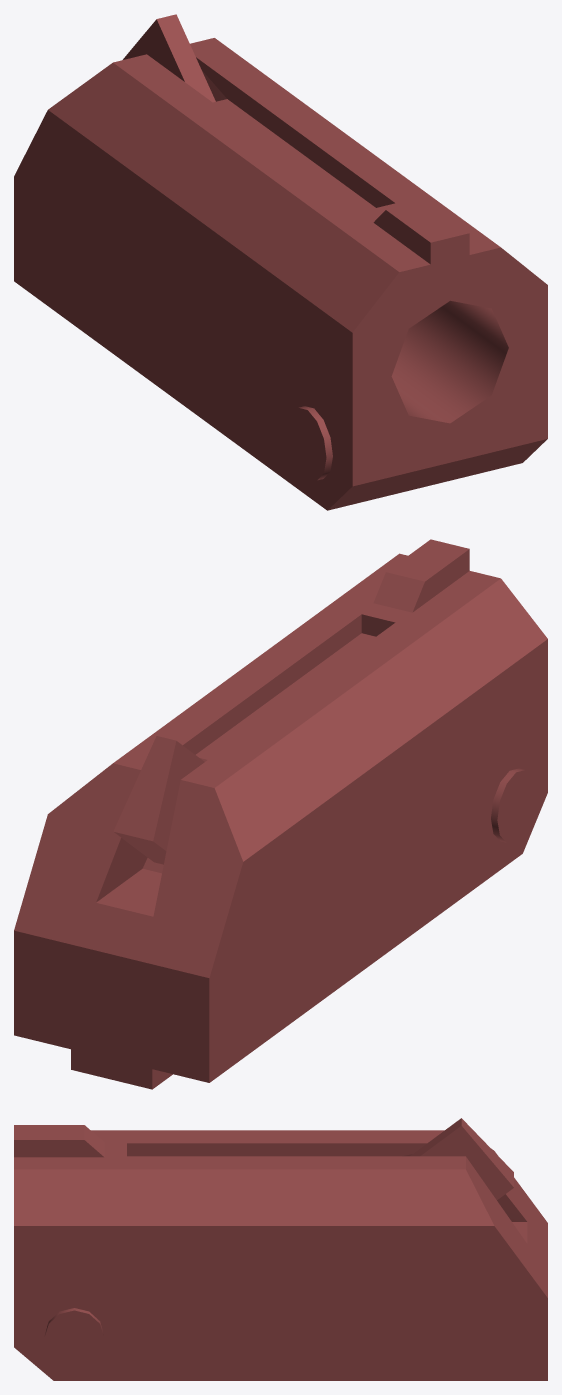
Rendered from WM0_Cannon_x1_LVL0.FBX.
3 renders of one model, top to bottom at view 1: azimuth 30°, elevation 25°; view 2: azimuth 150°, elevation 25°; view 3: azimuth 270°, elevation 25°, orthographic. The views are drawn at different scales.
Visible parts, largest first — view 1: WM0_Cannon_x1_LVL0; view 2: WM0_Cannon_x1_LVL0; view 3: WM0_Cannon_x1_LVL0.
Part boxes in pixels (box(x1,y1,x2,y2)): WM0_Cannon_x1_LVL0: box(14, 14, 547, 510); WM0_Cannon_x1_LVL0: box(14, 539, 547, 1089); WM0_Cannon_x1_LVL0: box(14, 1118, 547, 1380).
Bounding box in the file's own units: 8 × 11.05 × 22.5.
